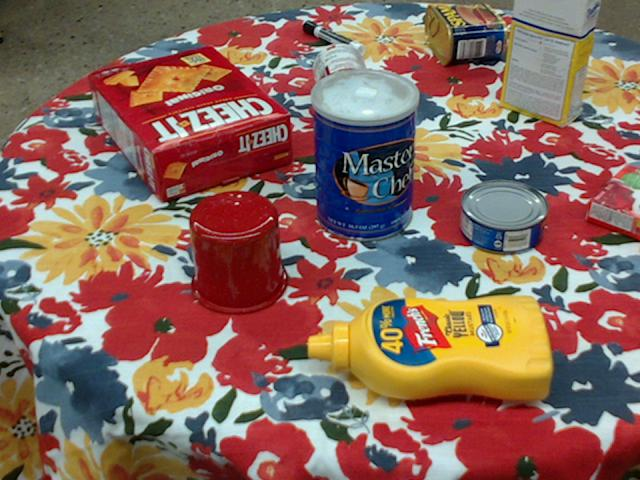cracker_box: (89, 45, 293, 199)
gelatin_box: (586, 165, 639, 241)
large_marker: (304, 19, 365, 56)
master_chef_can: (310, 68, 418, 242)
mug: (187, 189, 289, 314)
mustard_bottle: (310, 292, 556, 398)
potted_meat_can: (425, 3, 507, 64)
sugar_box: (500, 0, 603, 128)
tomato_soup_can: (312, 42, 379, 127)
tuna_fish_can: (462, 180, 550, 254)
